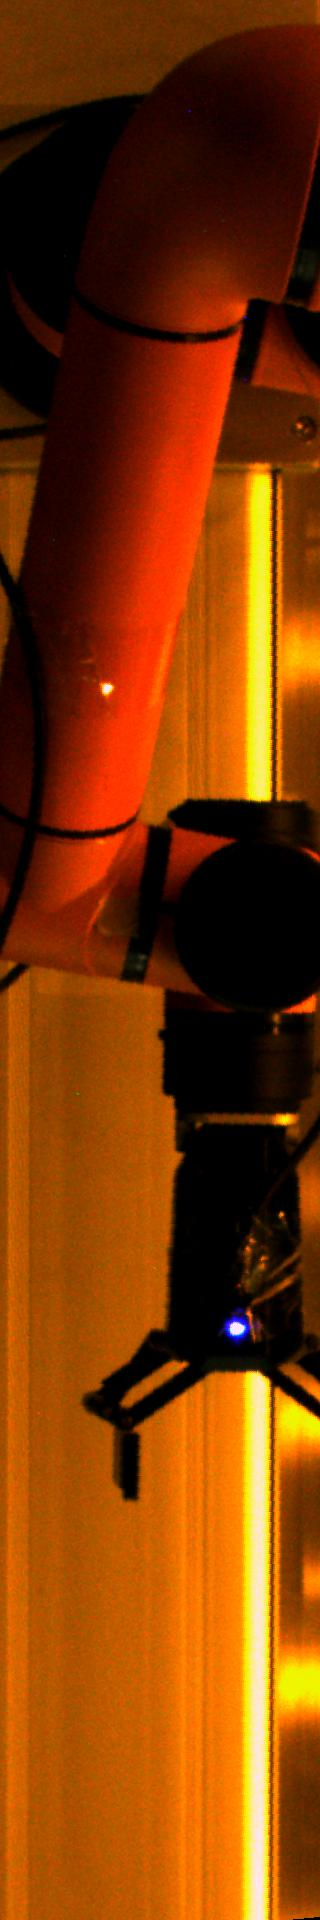keyPoint_1: (221, 1310, 251, 1340)
